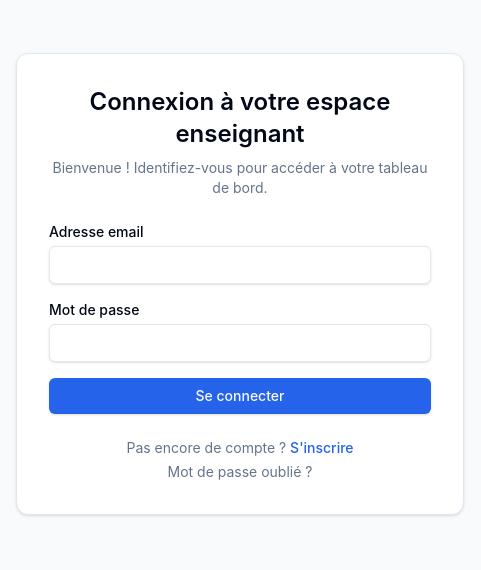
Scenario: LoginPage › affiche le message « compte non actif » sur 403
The width and height of the screenshot is (481, 570).
Type "pending@example.fr" into the field labelled "Adresse email".
click(240, 265); type("pending@example.fr")  # box [49, 246, 431, 284]
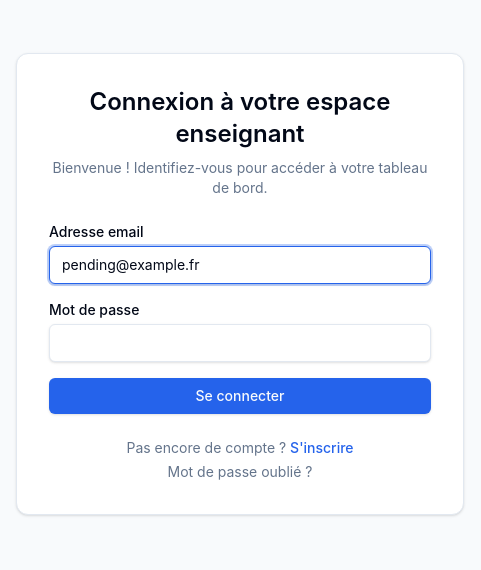
Type "motdepasse123456" into the password field labelled "Mot de passe".
click(240, 343); type("motdepasse123456")  # box [49, 324, 431, 362]
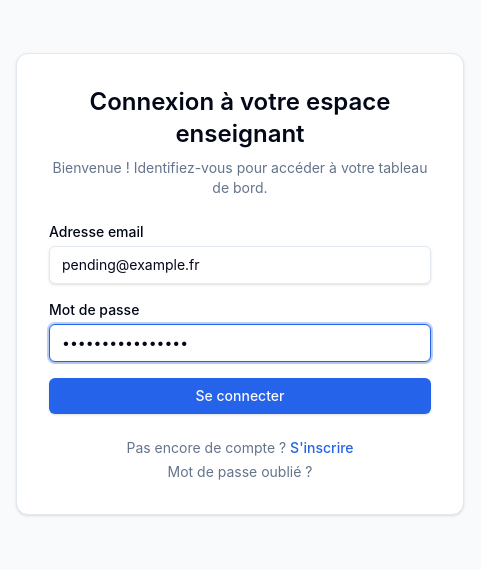
Click the button "Se connecter".
click(240, 396)  # box [49, 378, 431, 414]
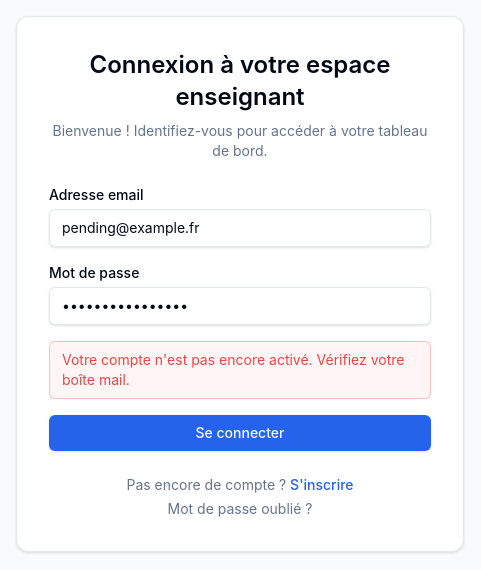
Expected: the text "Votre compte n'est pas encore activé. Vérifiez votre boîte mail." is shown, [49, 341, 431, 399]
